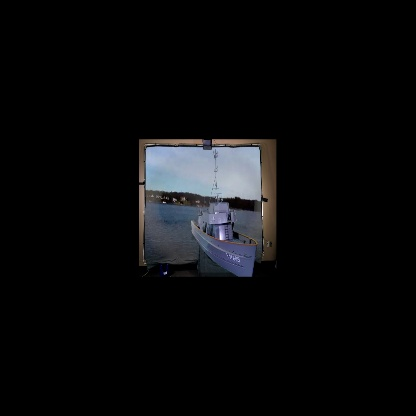YP689: (191, 150, 258, 276)
